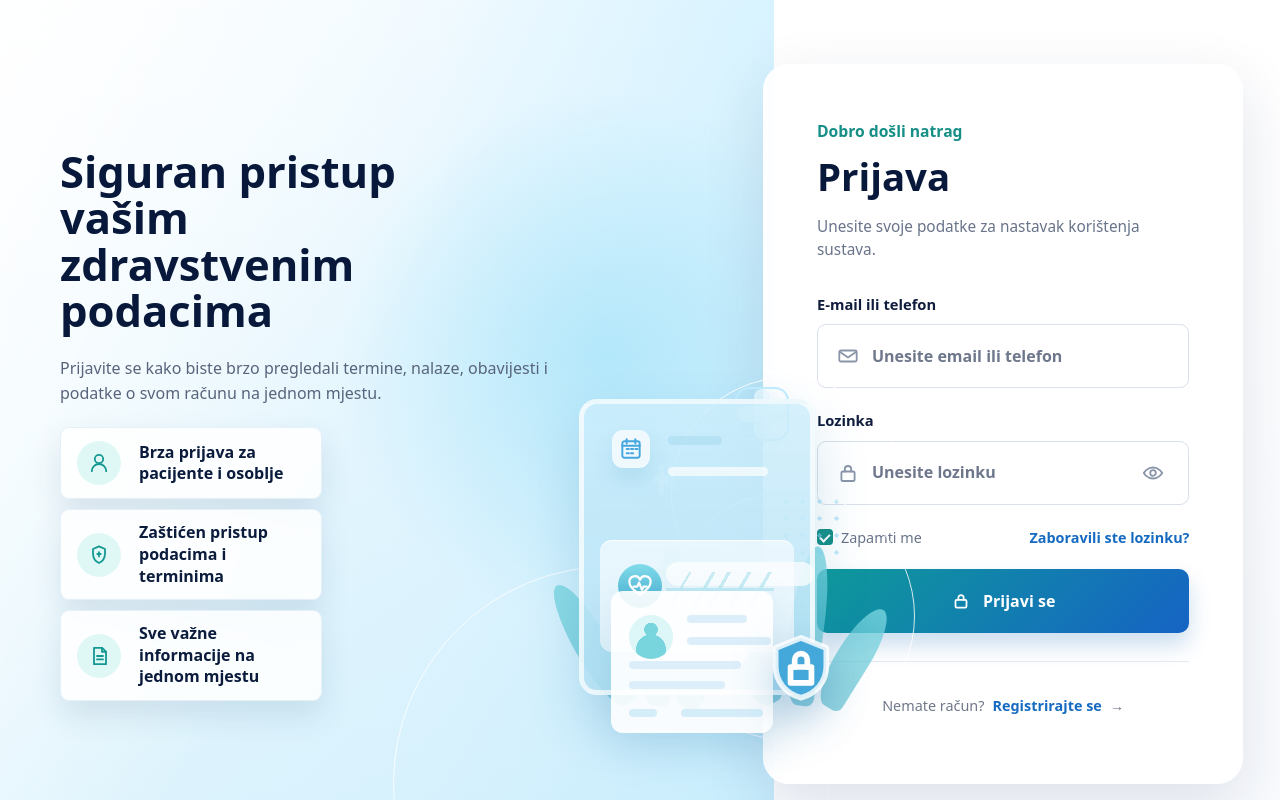
Test: LoginPage › shows loading state in organization list during registration flow
This screenshot has width=1280, height=800.
Click the button "Registrirajte se": (1047, 706) left=992, top=684, right=1102, bottom=728
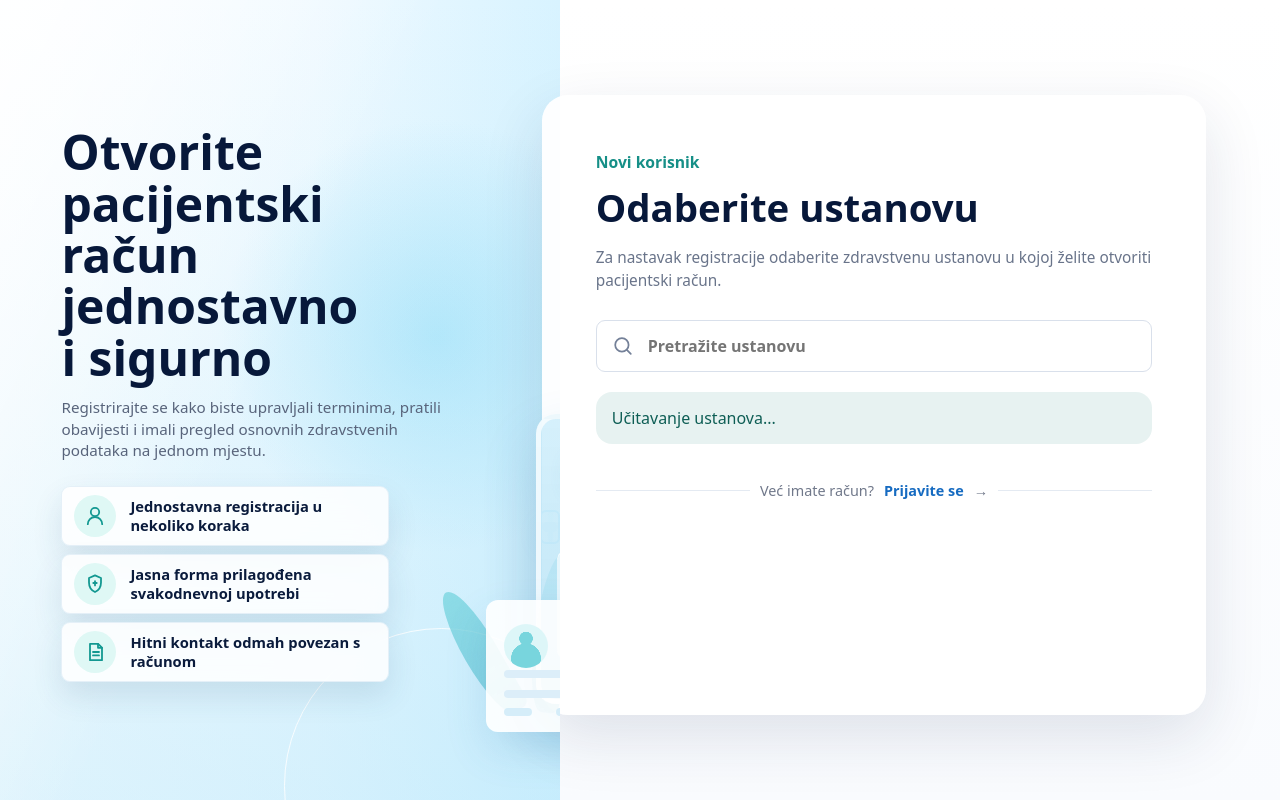
expect the text "Učitavanje ustanova..." is shown: met, box left=596, top=392, right=1152, bottom=444
